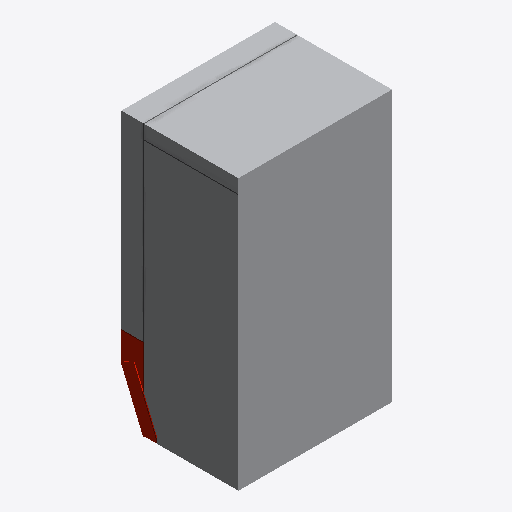
Isometric view (azimuth 45°, elevation 35.3°) of a Minecraft model made of 14 cuboids, textured from the same repository.
Visible parts, largest first — element 6, element 2, element 3, element 4, element 9, element 5, element 10, element 11.
Boxes of the visible parts, box(x1,y1,x2,y2) form: element 6: box(121, 22, 391, 194); element 2: box(143, 309, 391, 490); element 3: box(121, 233, 391, 397); element 4: box(121, 128, 252, 321); element 9: box(253, 115, 376, 312); element 5: box(377, 107, 391, 241); element 10: box(121, 361, 156, 437); element 11: box(121, 330, 142, 372).
Size of the model in its own units: 15.9 by 27.76 by 12.15.